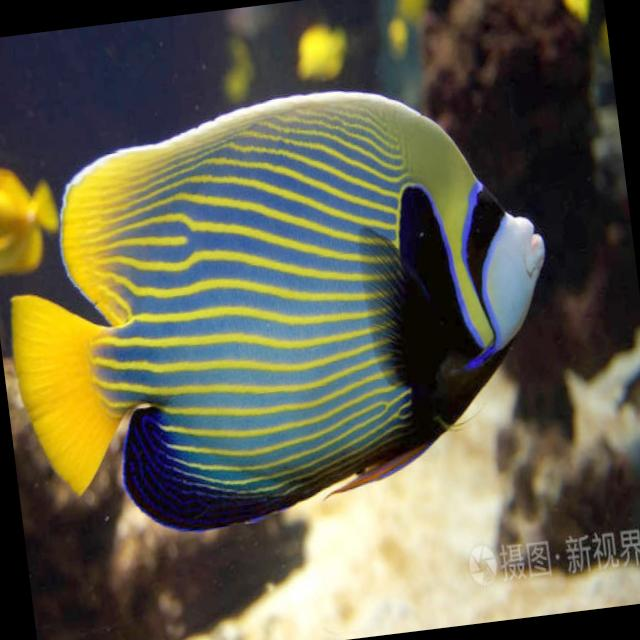AngelFish: (0, 65, 575, 558)
